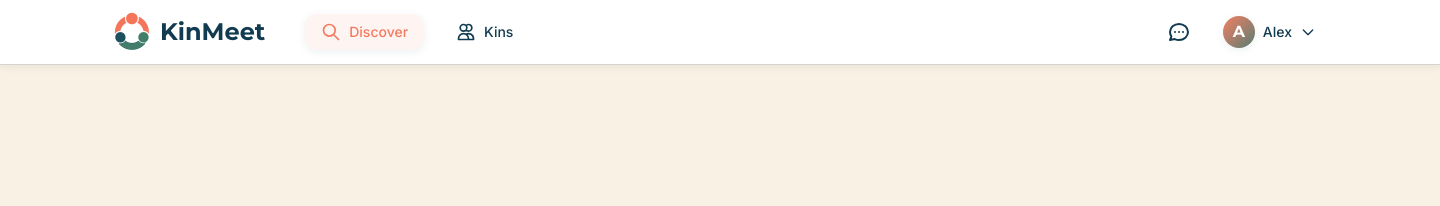
Test case: Layout user menu › shows Settings & Privacy with icon and Sign Out at the bottom of the user menu
The width and height of the screenshot is (1440, 206).
Step 1. Click the button with aria-label "user menu" → (1269, 32), box [1211,8,1328,56]
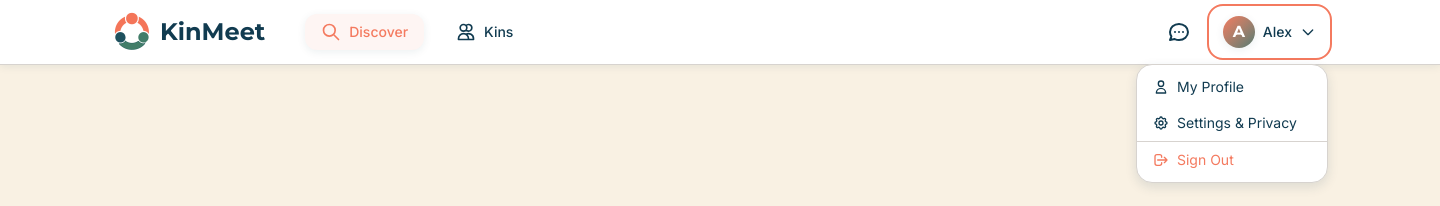
Now the icon next to "Settings & Privacy" is shown, box [1153,115,1169,131]
